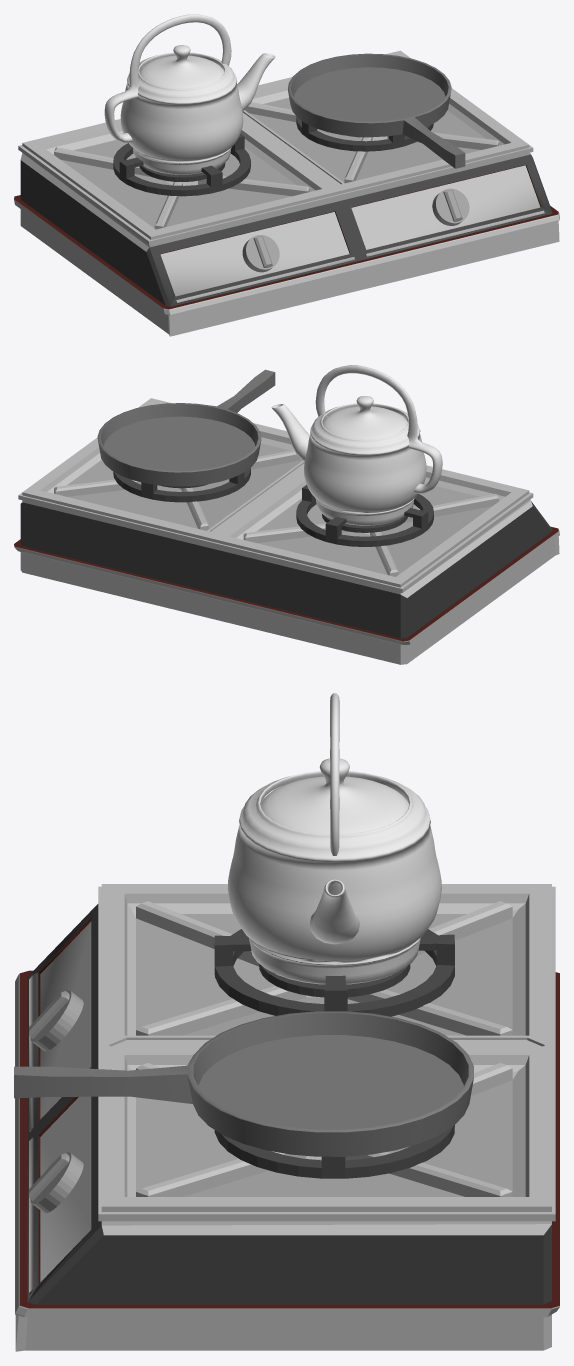
The model's file is Gas_stove.fbx.
3 renders of one model, top to bottom at view 1: azimuth 30°, elevation 25°; view 2: azimuth 150°, elevation 25°; view 3: azimuth 270°, elevation 25°, orthographic. The views are drawn at different scales.
Parts seen in each view (by area): view 1: Stove.002, Teapot002, pan, switch.001, switch.002; view 2: Stove.002, Teapot002, pan; view 3: Stove.002, pan, Teapot002, switch.001, switch.002.
Boxes of the visible parts, x1,y1,x2,y2 form: Stove.002: (14,50,559,336); Teapot002: (104,14,275,174); pan: (288,53,465,168); switch.001: (432,188,469,225); switch.002: (242,235,279,272); Stove.002: (14,398,559,664); Teapot002: (271,365,442,525); pan: (97,369,275,486); Stove.002: (15,884,559,1351); pan: (14,1011,473,1156); Teapot002: (227,693,441,984); switch.001: (29,1152,83,1213); switch.002: (29,990,83,1051).
Size of the model in its own units: 219 by 121 by 150.
